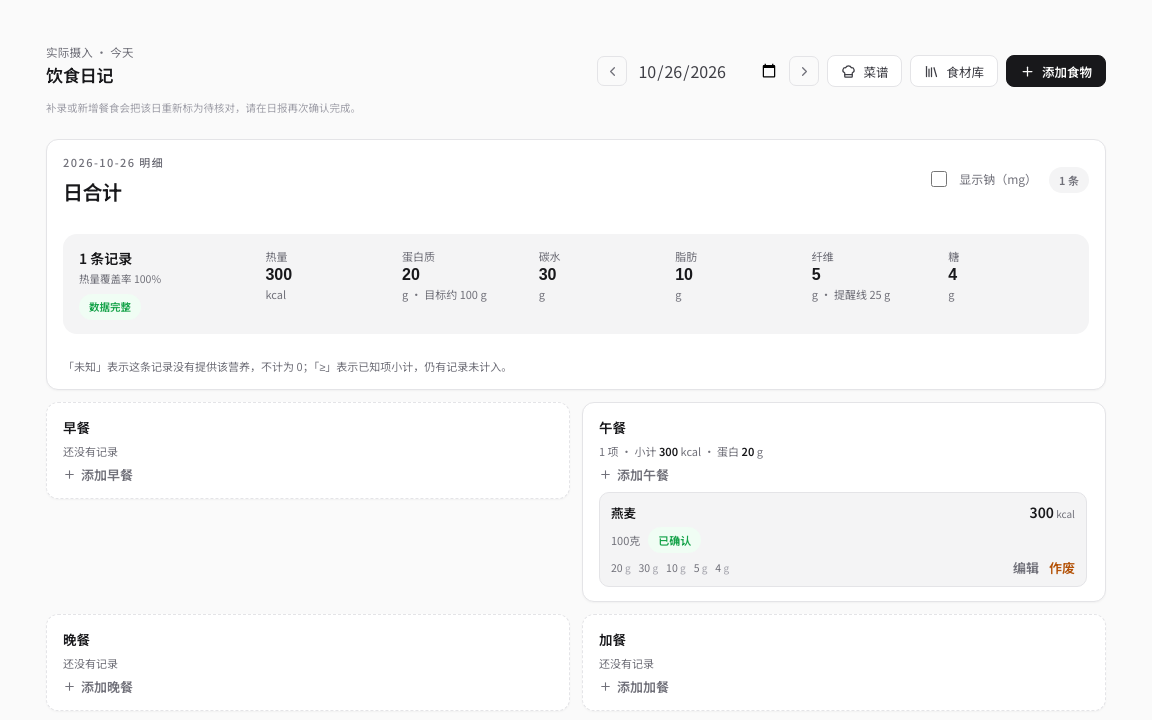
Test case: keeps one edit and one void action per row
Click the button "作废": (1062, 568) [1049,558,1075,577]
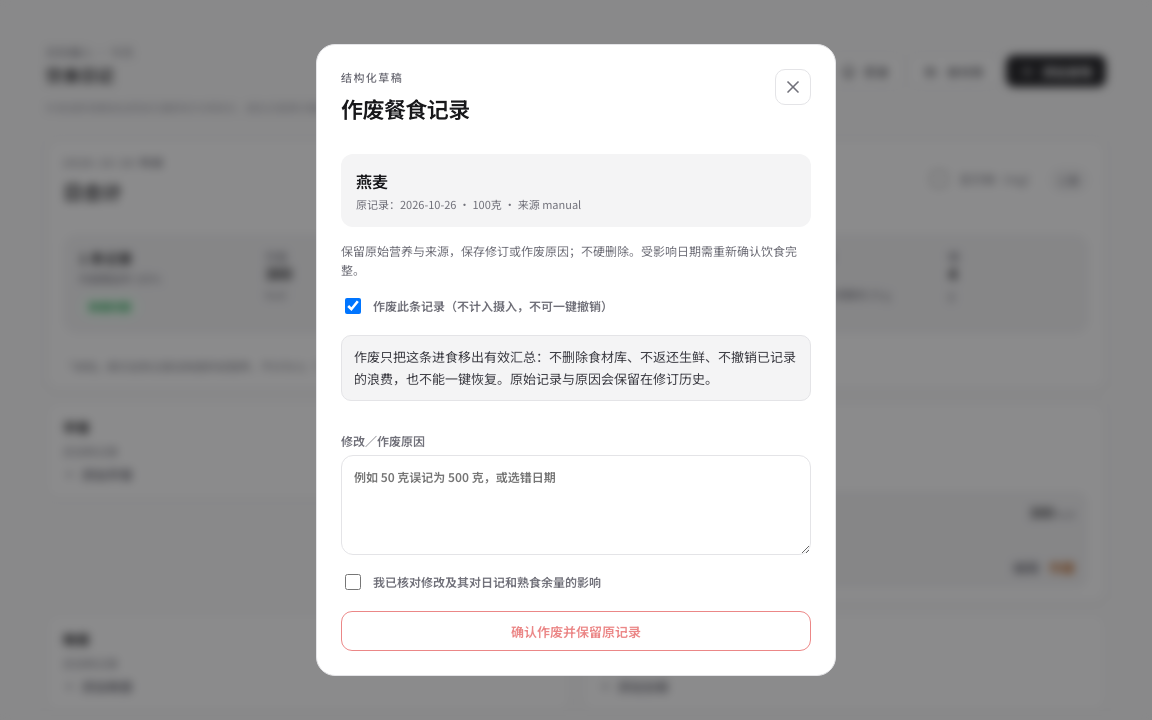
Expected: the text "作废餐食记录" is shown, [341,92,470,124]
